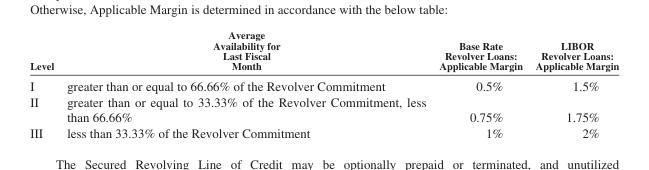table: (29, 28, 618, 139)
table column: (59, 28, 431, 139), (431, 28, 528, 139), (528, 28, 618, 139), (29, 28, 59, 139)
table column header: (29, 28, 618, 75)
table row: (29, 28, 618, 75), (29, 93, 618, 124), (29, 75, 618, 93), (29, 124, 618, 139)
